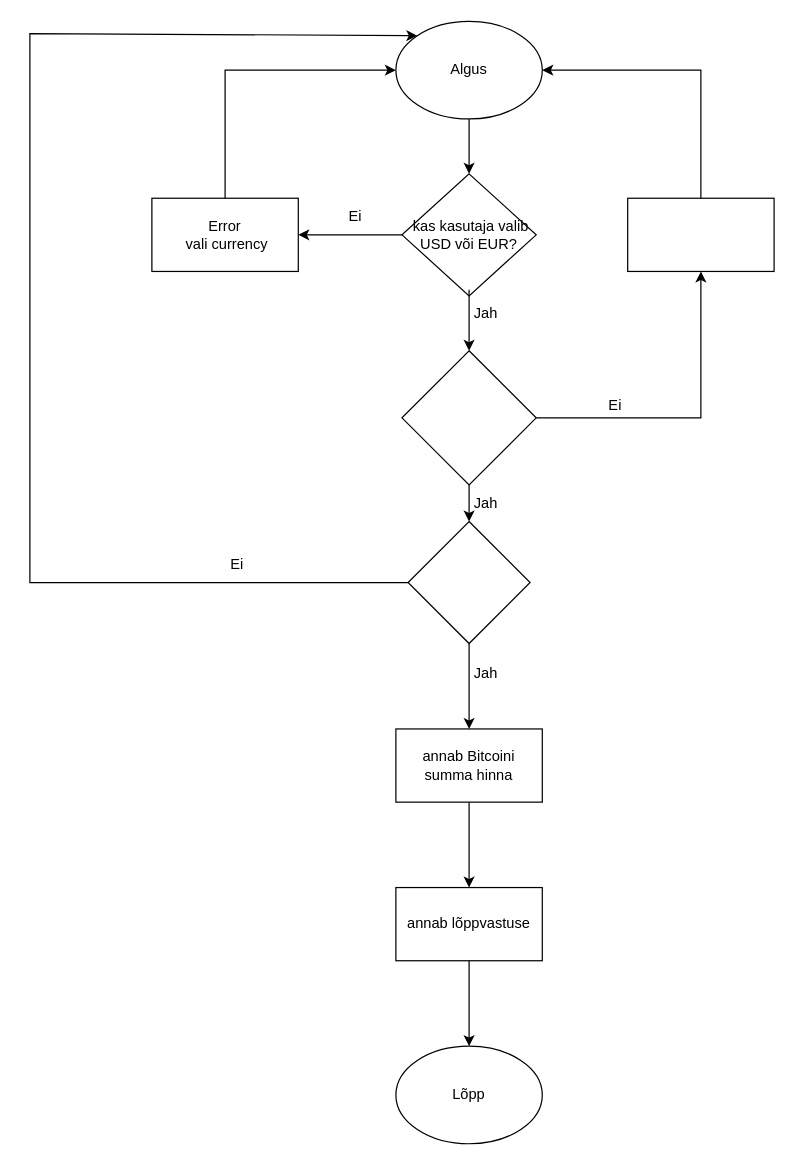
Image size: 795x1165. Some labels were removed from this diagram. The shapes that lost their labels are listed below. From the top down, each one's centre as x and y in pixels, then its label:
the point at 700,234: Error vali BTC summa
the point at 468,417: Kas kasutaja valib mis on Bitcoini summa?
the point at 468,582: Kas kasutaja vajutab nuppu Get Rates?
